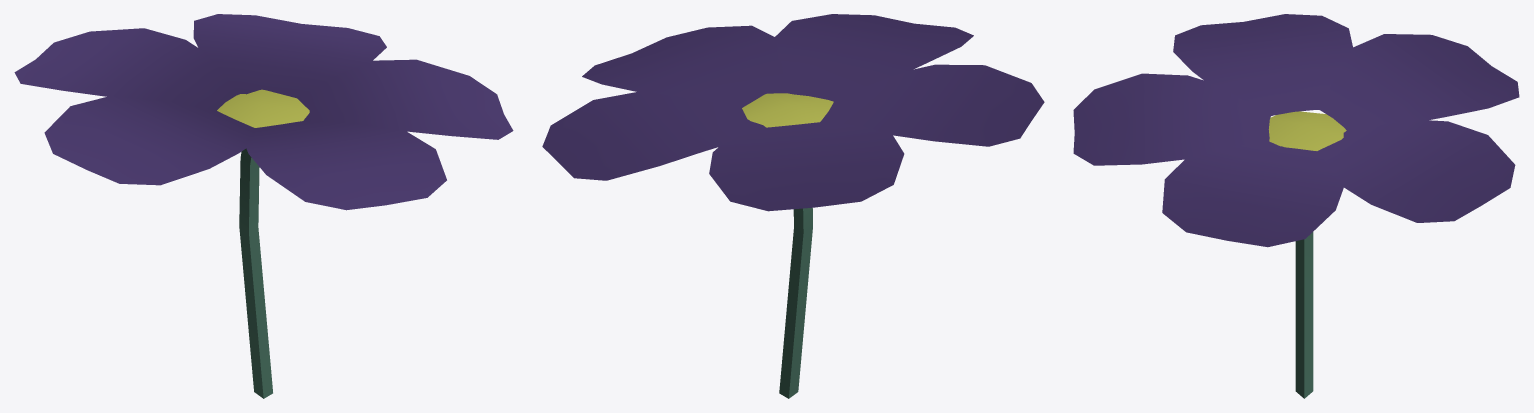
File: Flower_5.fbx
3 renders of one model, left to right at view 1: azimuth 30°, elevation 25°; view 2: azimuth 150°, elevation 25°; view 3: azimuth 270°, elevation 25°, orthographic. The views are drawn at different scales.
Visible parts, largest first — view 1: Plane016; view 2: Plane016; view 3: Plane016.
Part boxes in pixels (box(x1,y1,x2,y2)): Plane016: box(14, 14, 513, 398); Plane016: box(542, 14, 1044, 398); Plane016: box(1073, 14, 1519, 398).
Size of the model in its own units: 9.7 by 6.67 by 9.31.
